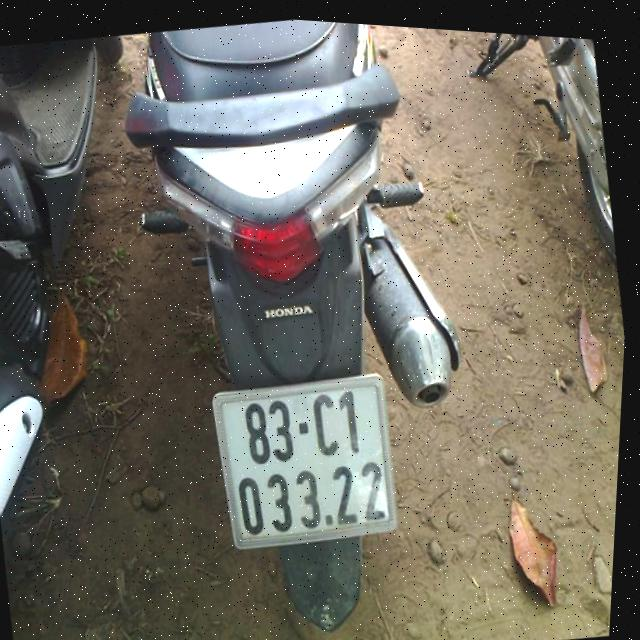motorcycle: (79, 7, 527, 640), (0, 29, 188, 555), (427, 29, 629, 293)
plate: (191, 350, 420, 570)
